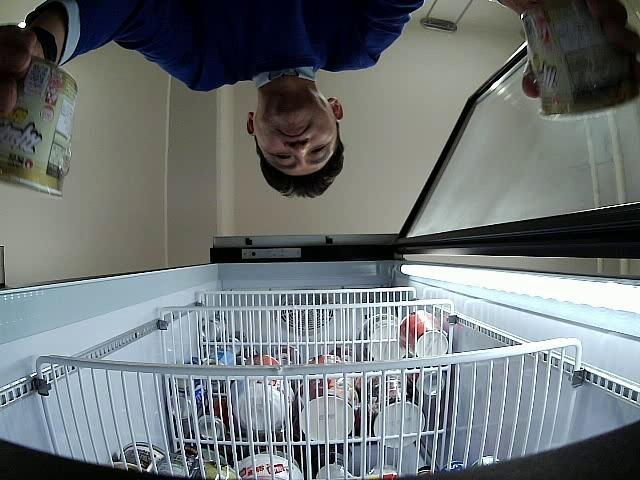04_chapagetti_S: (520, 0, 640, 122), (1, 56, 78, 198)
